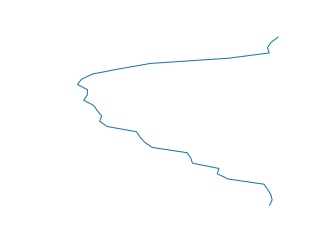mouthBar: (72, 36, 282, 211)
